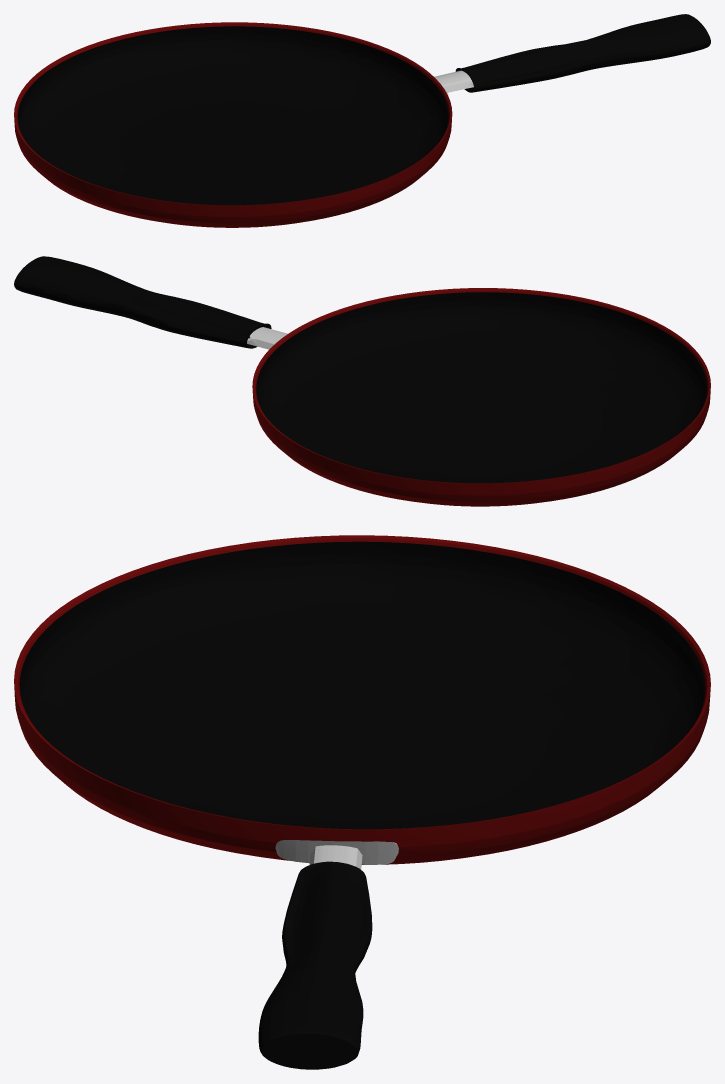
File: FryingPan_reduced.fbx
The picture shows the model from 3 angles, top to bottom: view 1: azimuth 30°, elevation 25°; view 2: azimuth 150°, elevation 25°; view 3: azimuth 270°, elevation 25°; orthographic projection. The views are drawn at different scales.
Visible parts, largest first — view 1: Cylinder001, Cylinder002; view 2: Cylinder001, Cylinder002; view 3: Cylinder001, Cylinder002, Box001.
Boxes of the visible parts, x1,y1,x2,y2 form: Cylinder001: (14,22,452,227); Cylinder002: (434,14,710,92); Cylinder001: (252,288,710,506); Cylinder002: (14,256,287,349); Cylinder001: (14,535,710,864); Cylinder002: (258,845,372,1069); Box001: (275,840,398,864).
Bounding box in the file's own units: 83.6 × 5.27 × 49.71.
